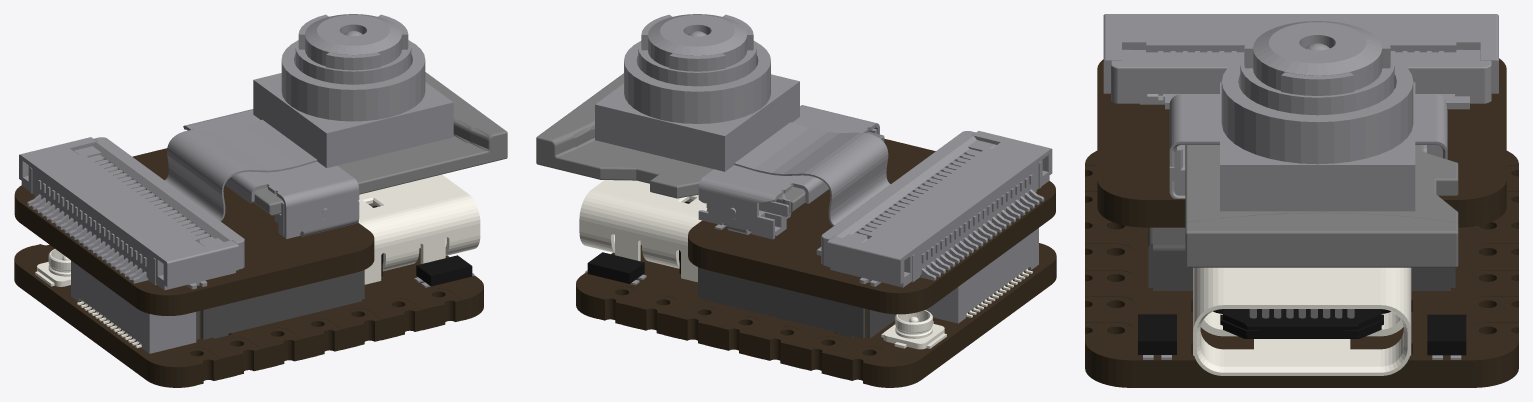
The model's file is seeed-xiao-esp32s3-sense.glb.
The picture shows the model from 3 angles, left to right: view 1: azimuth 30°, elevation 25°; view 2: azimuth 150°, elevation 25°; view 3: azimuth 270°, elevation 25°; orthographic projection. The views are drawn at different scales.
Visible parts, largest first — view 1: seeed-xiao-esp32s3-sense; view 2: seeed-xiao-esp32s3-sense; view 3: seeed-xiao-esp32s3-sense.
Boxes of the visible parts, x1,y1,x2,y2 form: seeed-xiao-esp32s3-sense: (14,14,507,387); seeed-xiao-esp32s3-sense: (536,14,1056,387); seeed-xiao-esp32s3-sense: (1085,14,1518,387).
Size of the model in its own units: 24.36 by 13.96 by 17.78.
